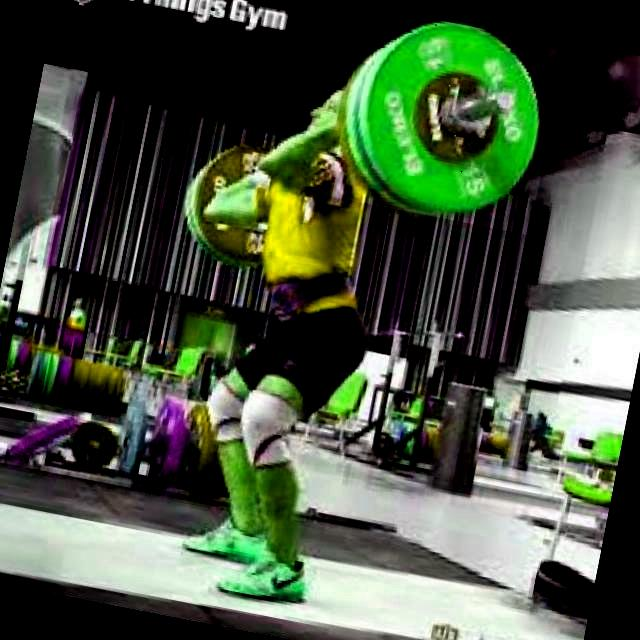barbell: (330, 4, 567, 236)
